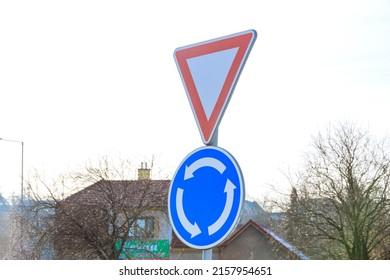Give Way: (165, 43, 265, 136)
